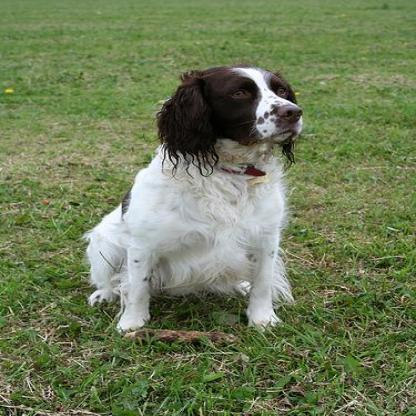English_springer: (84, 66, 301, 329)
